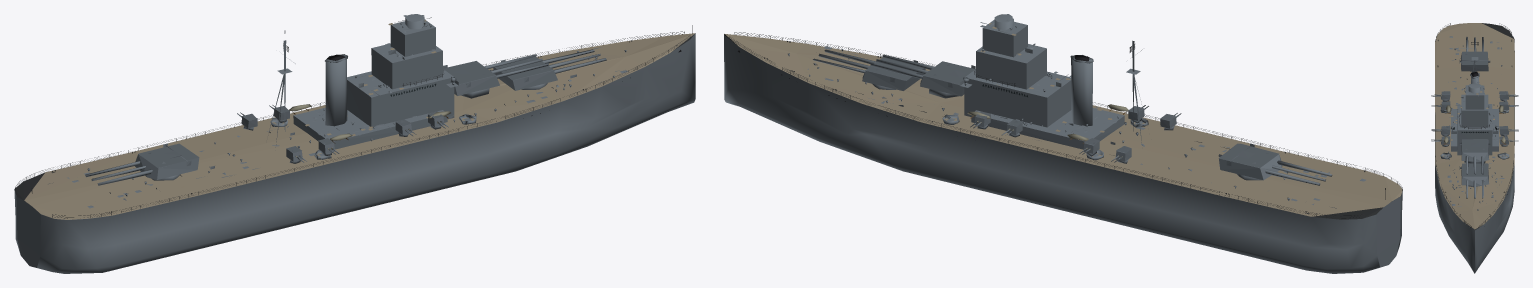
File: south_dakota_lod.glb
The picture shows the model from 3 angles, left to right: view 1: azimuth 30°, elevation 25°; view 2: azimuth 150°, elevation 25°; view 3: azimuth 270°, elevation 25°; orthographic projection. The views are drawn at different scales.
Visible parts, largest first — view 1: south_dakota_lod; view 2: south_dakota_lod; view 3: south_dakota_lod.
Boxes of the visible parts, box(x1,y1,x2,y2) form: south_dakota_lod: box(14, 14, 695, 273); south_dakota_lod: box(724, 14, 1402, 273); south_dakota_lod: box(1431, 23, 1518, 273).
Bounding box in the file's own units: 207 × 51.48 × 36.24.
